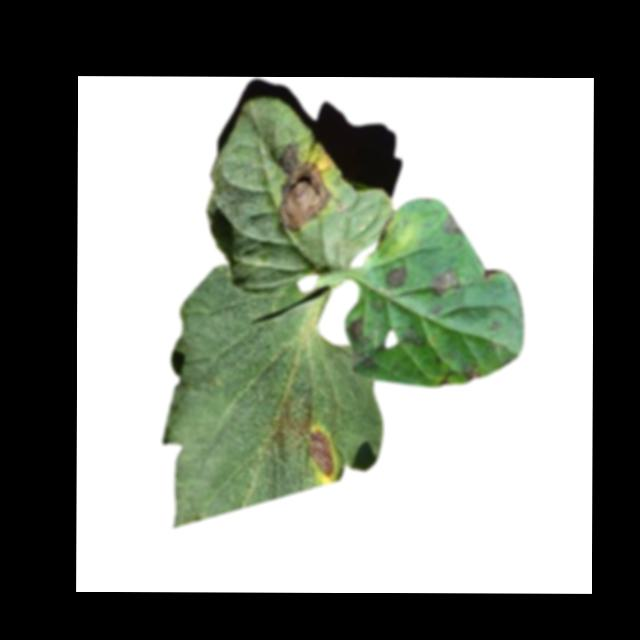Early_blight: (270, 143, 334, 231), (306, 429, 337, 476), (430, 268, 464, 300), (385, 267, 411, 289), (443, 213, 464, 237), (348, 317, 364, 343), (463, 370, 481, 383)
